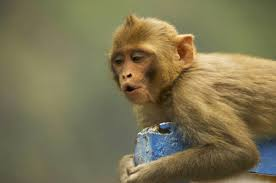monkey: (74, 11, 264, 182)
